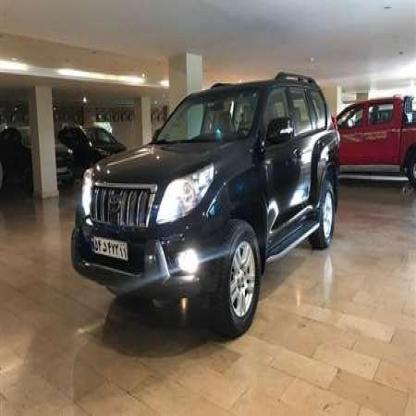Car: (80, 80, 338, 336), (326, 80, 416, 197), (4, 122, 70, 191), (70, 115, 120, 171)
